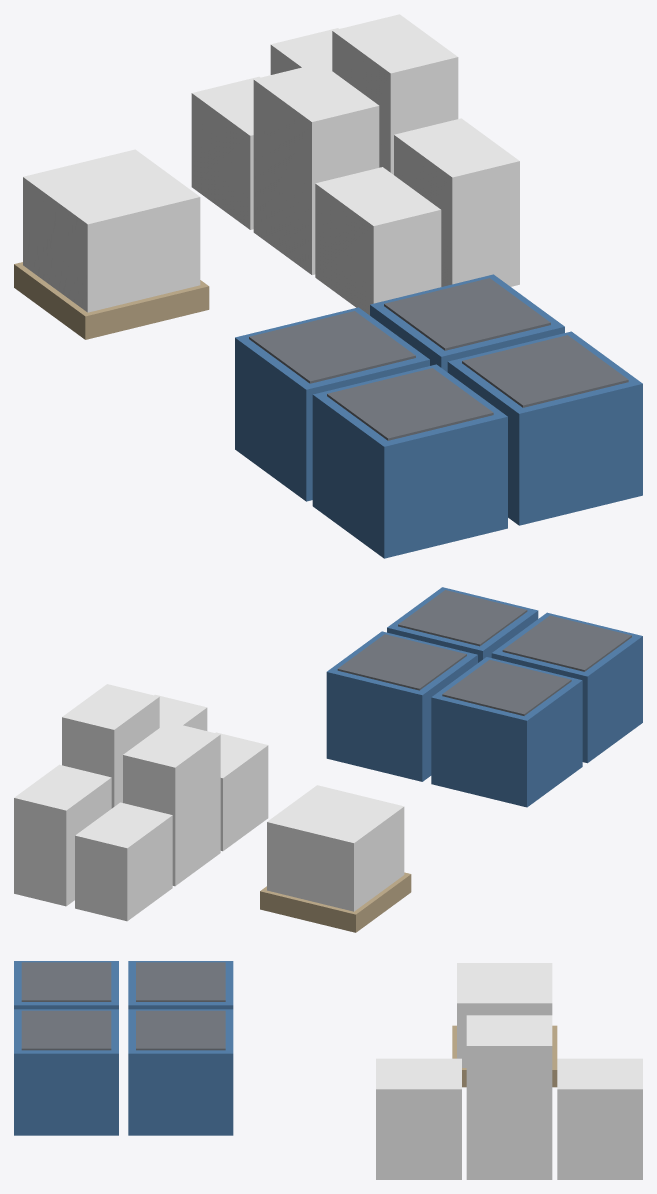
The model's file is port_cargo3.fbx.
3 renders of one model, top to bottom at view 1: azimuth 30°, elevation 25°; view 2: azimuth 150°, elevation 25°; view 3: azimuth 270°, elevation 25°, orthographic. The views are drawn at different scales.
Parts seen in each view (by area): view 1: a1001_0_port_cargo3; view 2: a1001_0_port_cargo3; view 3: a1001_0_port_cargo3.
Part boxes in pixels (x1,y1,x2,y2): a1001_0_port_cargo3: [14, 14, 642, 558]; a1001_0_port_cargo3: [14, 587, 642, 932]; a1001_0_port_cargo3: [14, 961, 642, 1179].
Size of the model in its own units: 3.4 by 1.55 by 6.6.
